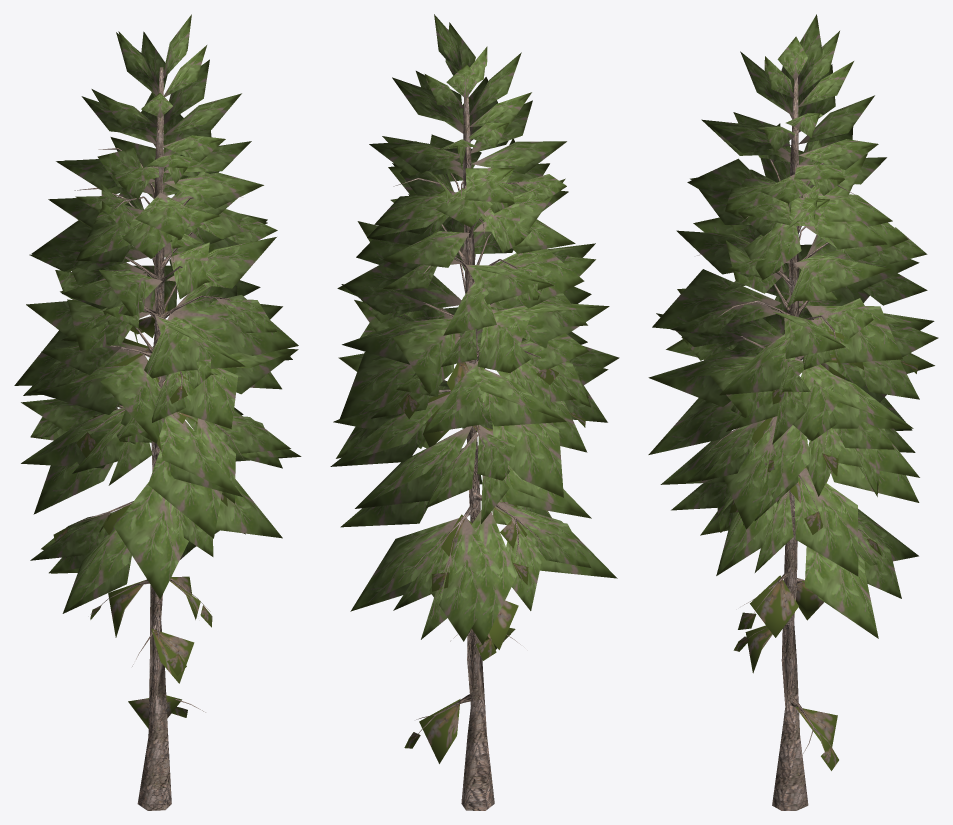
Rendered from spruce_LOD4.fbx.
3 renders of one model, left to right at view 1: azimuth 30°, elevation 25°; view 2: azimuth 150°, elevation 25°; view 3: azimuth 270°, elevation 25°, orthographic.
Visible parts, largest first — view 1: spruce branch_1, bark08_0, branch06_2; view 2: spruce branch_1, bark08_0, branch06_2; view 3: spruce branch_1, bark08_0, branch06_2.
Part boxes in pixels (left/top/right/bottom): spruce branch_1: left=14, top=14, right=301, bottom=613; bark08_0: left=68, top=67, right=242, bottom=810; branch06_2: left=53, top=292, right=227, bottom=728; spruce branch_1: left=330, top=14, right=619, bottom=644; bark08_0: left=367, top=96, right=570, bottom=810; branch06_2: left=399, top=333, right=585, bottom=763; spruce branch_1: left=648, top=14, right=938, bottom=638; bark08_0: left=697, top=77, right=901, bottom=810; branch06_2: left=729, top=330, right=918, bottom=770.
Bounding box in the file's own units: 361 × 1063 × 355.
Materials: 3 (3 with a texture image).
